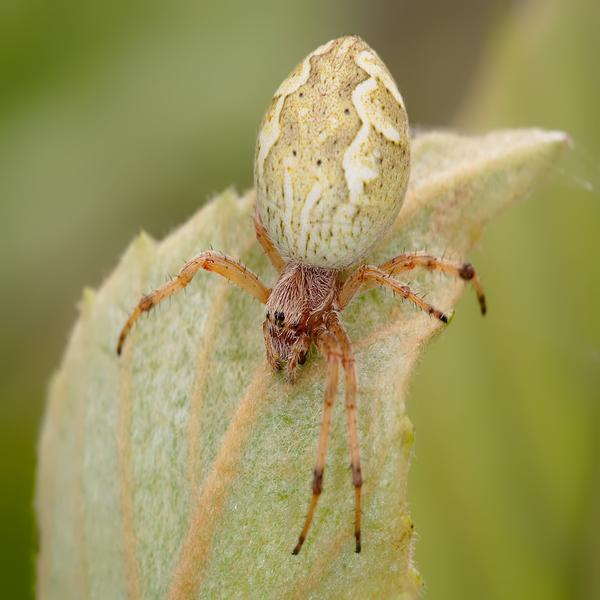Garden Orb Weaver Spider: (142, 31, 480, 558)
